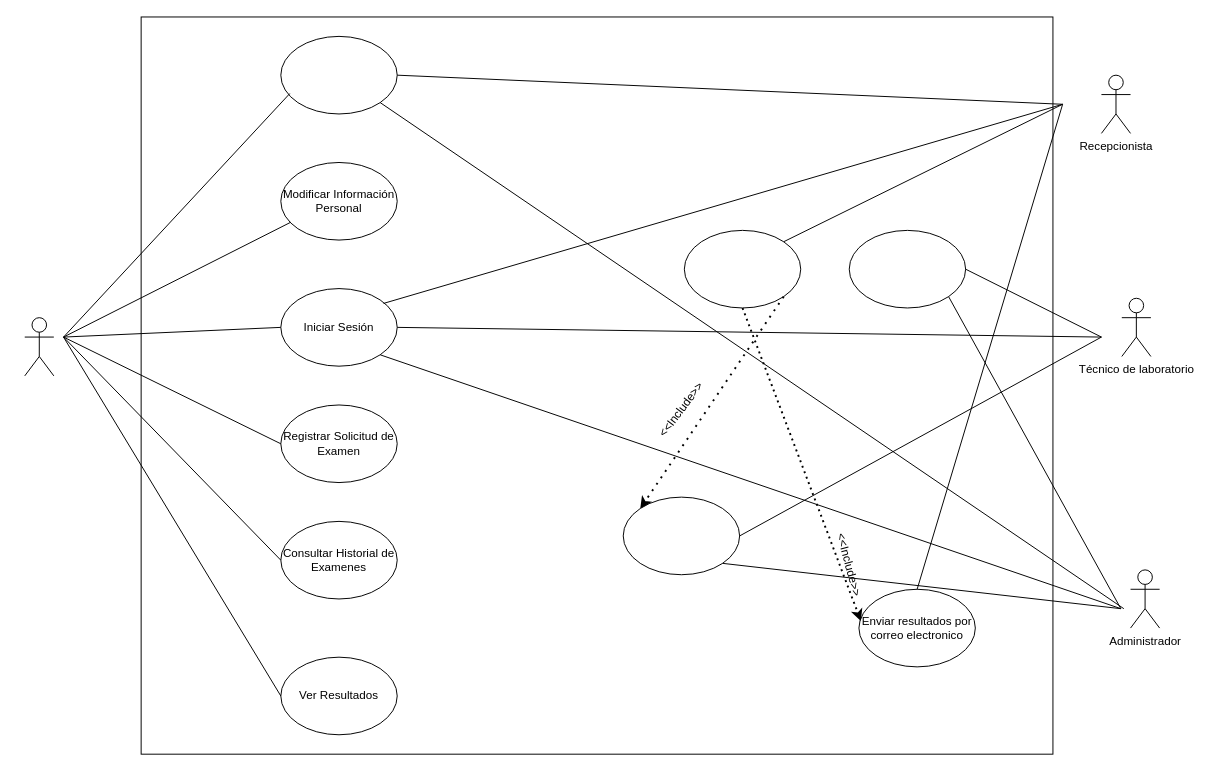
Some shapes in this 1211 by 771 pixel diagram are drawn without their labels. Each missing label, with the box of its shape:
Gestionar Examenes: (848, 229, 966, 308)
Imprimir Resultados: (622, 496, 740, 575)
Paciente: (24, 317, 54, 376)
Registrar Paciente: (280, 35, 397, 114)
Registrar Resultados de examen: (683, 229, 801, 308)
